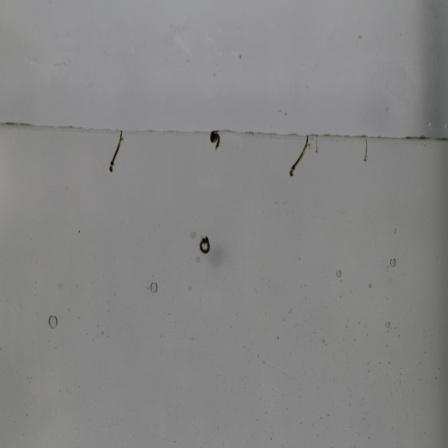Jentik-Nyamuk: (286, 132, 315, 178), (107, 128, 128, 175), (206, 129, 225, 152), (196, 233, 214, 255), (360, 137, 372, 165)
